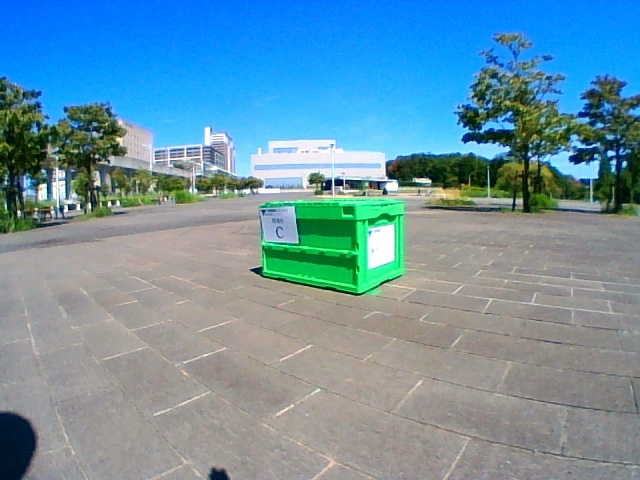green_box: (258, 198, 403, 294)
tag_c: (265, 209, 293, 242)
